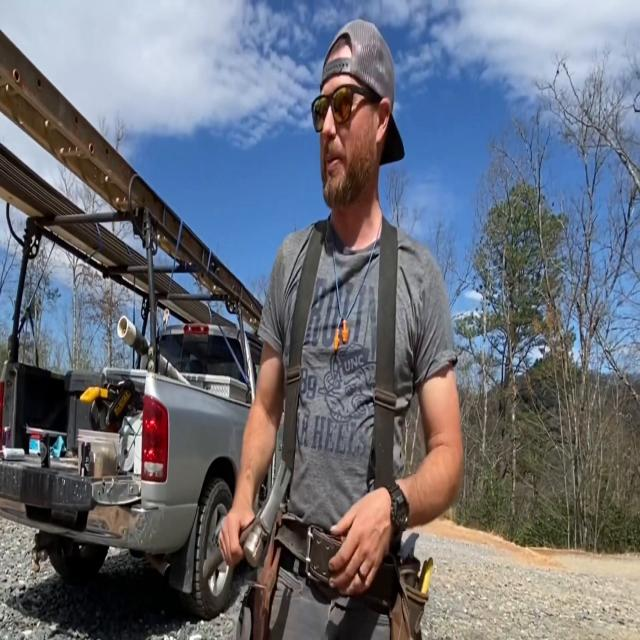hammer: (201, 460, 291, 579)
